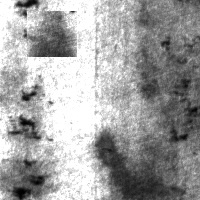inclusion: (166, 78, 196, 145)
patches: (96, 127, 180, 197), (27, 11, 77, 57)
